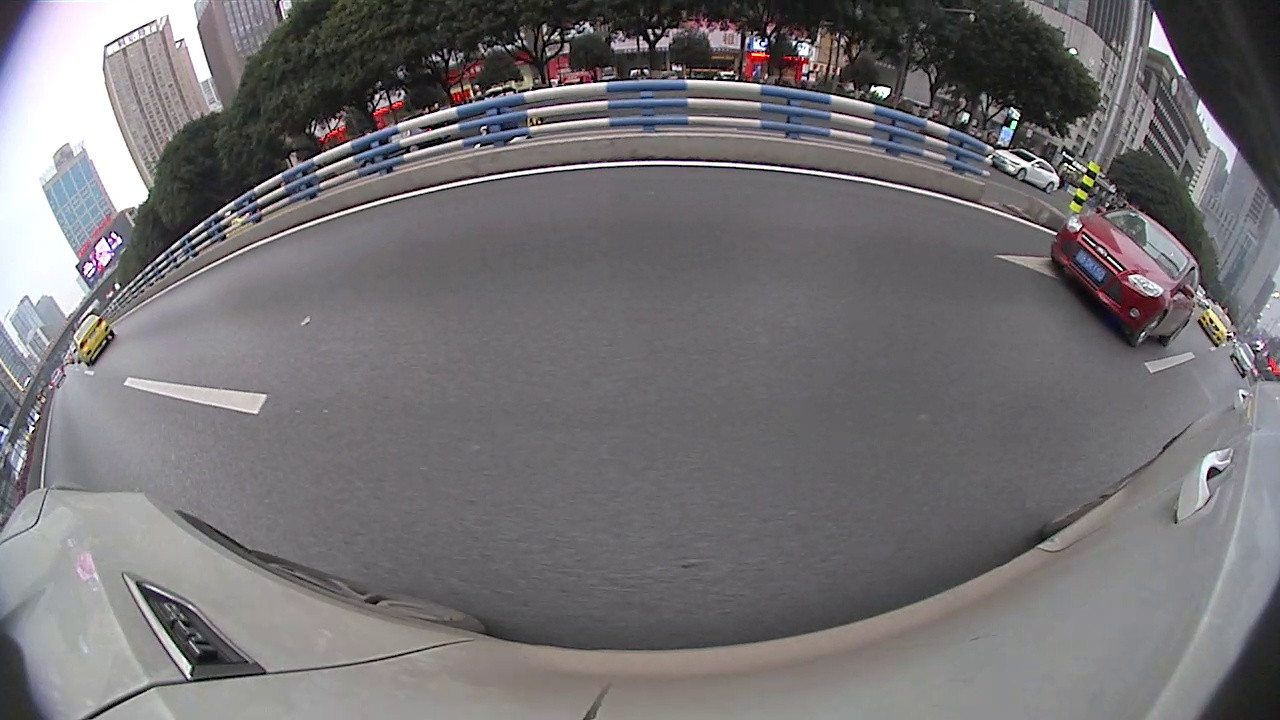car: (248, 139, 528, 292), (660, 114, 937, 267), (891, 155, 1003, 254), (987, 195, 1108, 285), (1187, 327, 1279, 432), (1166, 292, 1277, 350), (503, 153, 581, 205), (622, 153, 667, 190)
front: (1172, 313, 1203, 351), (662, 179, 677, 220), (511, 186, 526, 227)
rear: (400, 213, 443, 280), (728, 189, 763, 261), (1013, 240, 1046, 274), (551, 181, 561, 207)
